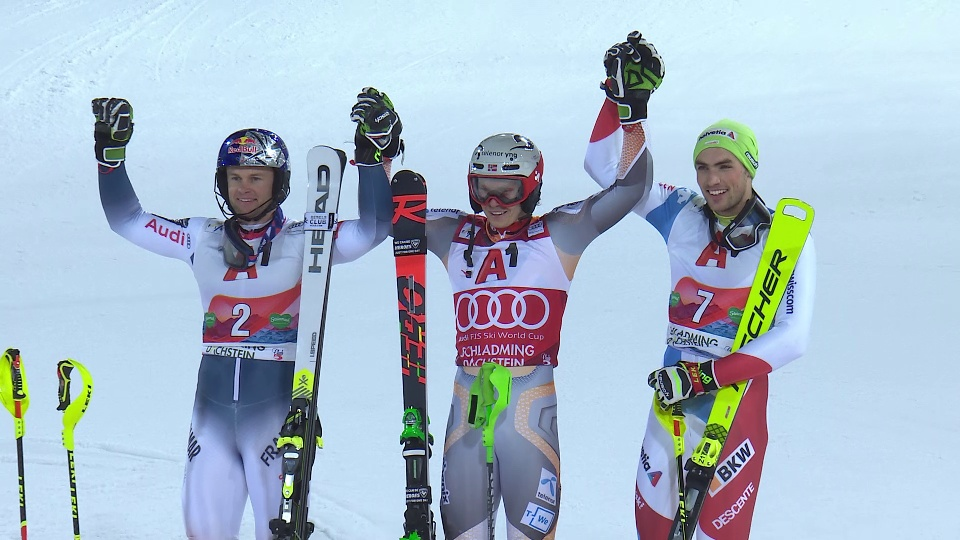BKW: (703, 441, 754, 498)
a1: (469, 243, 522, 286), (696, 241, 739, 270), (223, 262, 269, 284)
audi: (452, 288, 557, 332)
redbull: (230, 136, 260, 156)
schladming: (457, 340, 540, 369)
steiermark: (270, 313, 296, 329)
